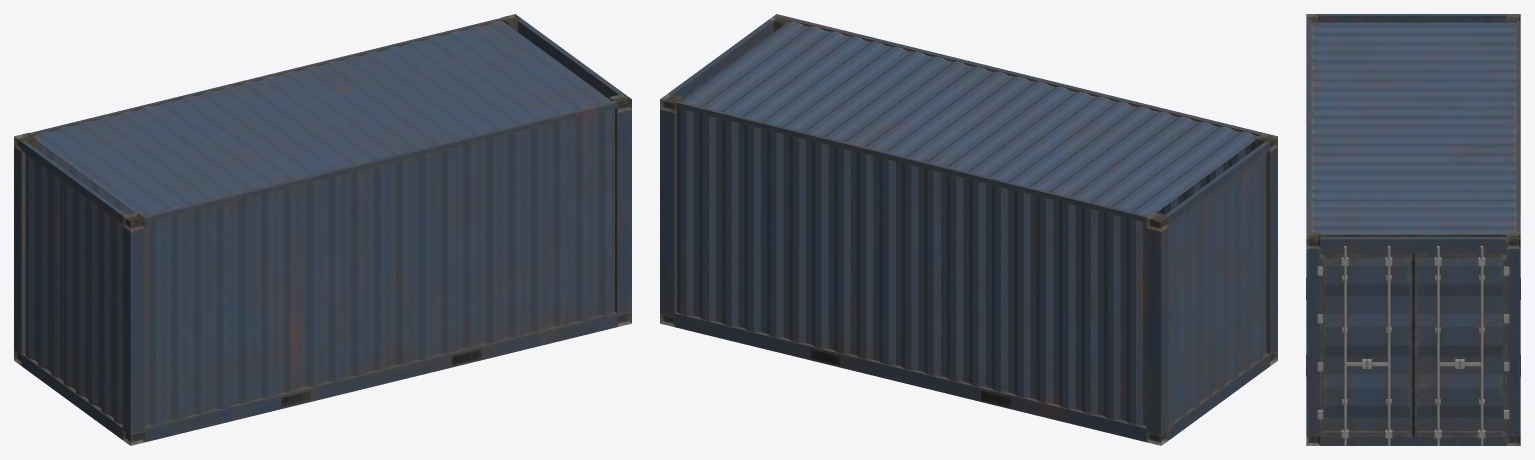
File: g3d_shipping_container_proz.glb
3 renders of one model, left to right at view 1: azimuth 30°, elevation 25°; view 2: azimuth 150°, elevation 25°; view 3: azimuth 270°, elevation 25°, orthographic. The views are drawn at different scales.
Parts seen in each view (by area): view 1: shipping-container_body; view 2: shipping-container_body; view 3: shipping-container_body.
Boxes of the visible parts, bbox=[...] form: shipping-container_body: bbox=[14, 14, 631, 445]; shipping-container_body: bbox=[660, 14, 1277, 445]; shipping-container_body: bbox=[1306, 14, 1520, 445].
Bounding box in the file's own units: 6.13 × 2.59 × 2.44.
Materials: 1 (1 with a texture image).
